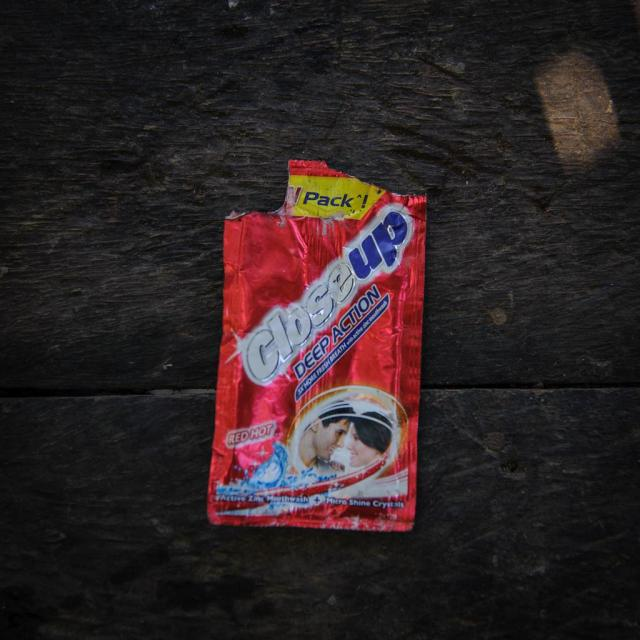Toothpaste: (200, 152, 434, 546)
